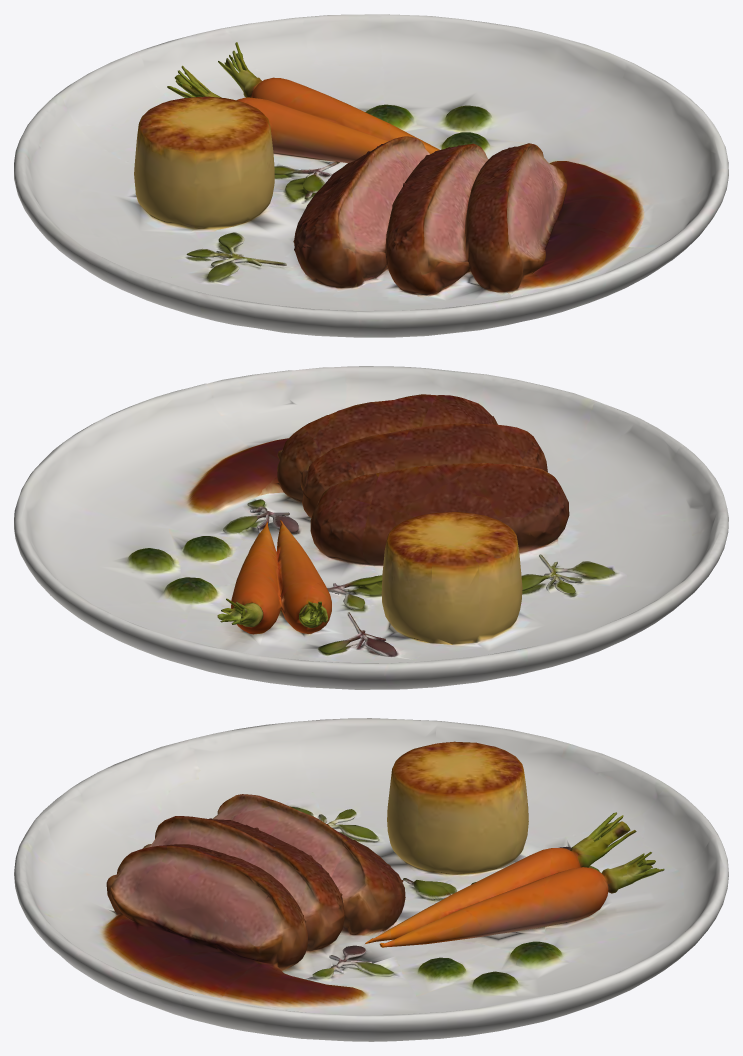
File: assiette-plat.opt.glb
3 renders of one model, top to bottom at view 1: azimuth 30°, elevation 25°; view 2: azimuth 150°, elevation 25°; view 3: azimuth 270°, elevation 25°, orthographic.
Parts seen in each view (by area): view 1: tripo_node_348fc742-25b6-4956-97ab-b8e03dd173bf; view 2: tripo_node_348fc742-25b6-4956-97ab-b8e03dd173bf; view 3: tripo_node_348fc742-25b6-4956-97ab-b8e03dd173bf.
Part boxes in pixels (x1,y1,x2,y2): tripo_node_348fc742-25b6-4956-97ab-b8e03dd173bf: (14,14,728,337); tripo_node_348fc742-25b6-4956-97ab-b8e03dd173bf: (14,366,728,689); tripo_node_348fc742-25b6-4956-97ab-b8e03dd173bf: (14,718,728,1041).
Bounding box in the file's own units: 1 × 0.1527 × 0.9994.
1 material, 1 textured.
